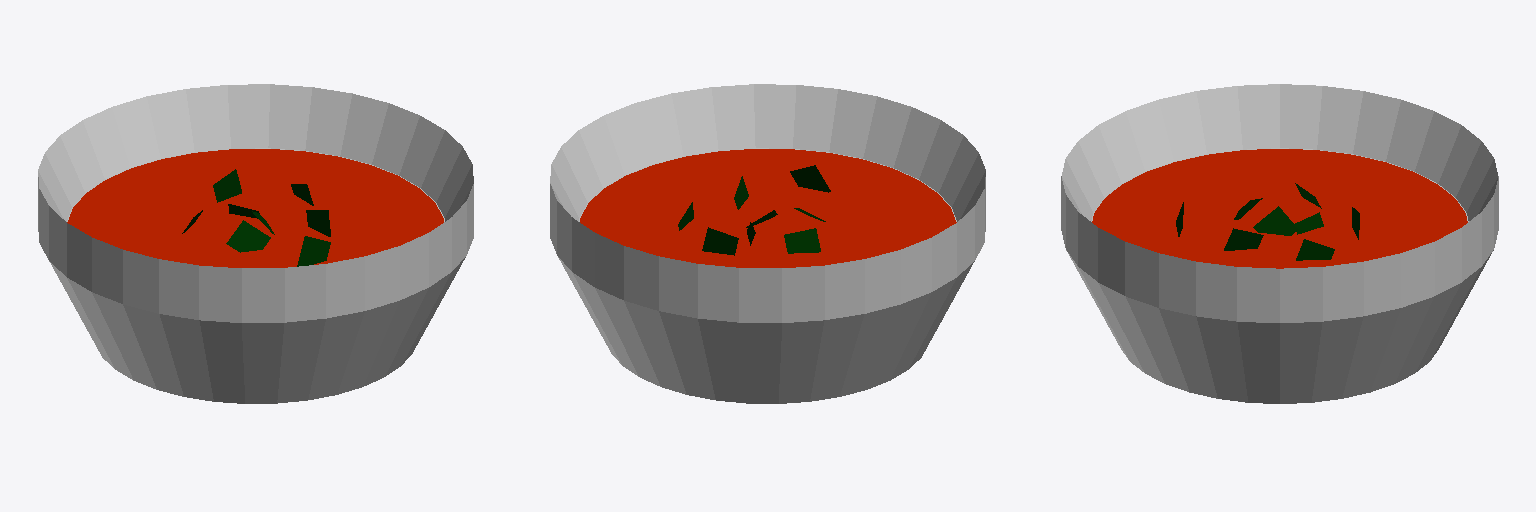
Rendered from simpleStew.obj.
The picture shows the model from 3 angles: view 1: azimuth 30°, elevation 25°; view 2: azimuth 150°, elevation 25°; view 3: azimuth 270°, elevation 25°; orthographic projection.
Parts seen in each view (by area): view 1: Bowl.001_Cylinder.010; view 2: Bowl.001_Cylinder.010; view 3: Bowl.001_Cylinder.010.
Part boxes in pixels (left/top/right/bottom): Bowl.001_Cylinder.010: left=38, top=84, right=473, bottom=403; Bowl.001_Cylinder.010: left=550, top=84, right=985, bottom=403; Bowl.001_Cylinder.010: left=1061, top=84, right=1498, bottom=403.
Bounding box in the file's own units: 0.0821 × 0.033 × 0.0821.